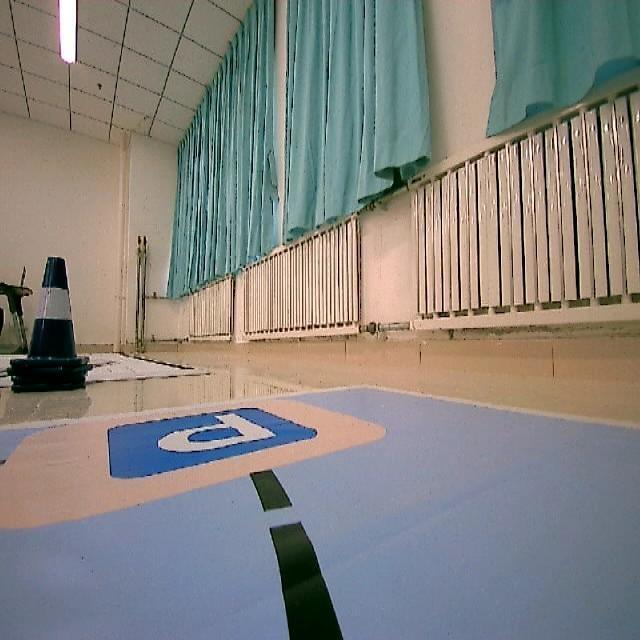obstacle: (0, 258, 96, 399)
